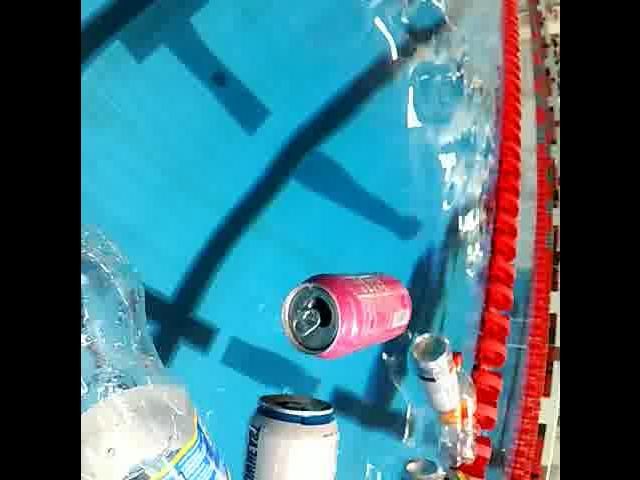Bottle: (80, 212, 246, 480), (442, 350, 479, 472)
Can: (268, 261, 416, 366), (227, 388, 347, 480), (408, 328, 458, 416), (394, 455, 440, 480), (437, 467, 473, 480)
